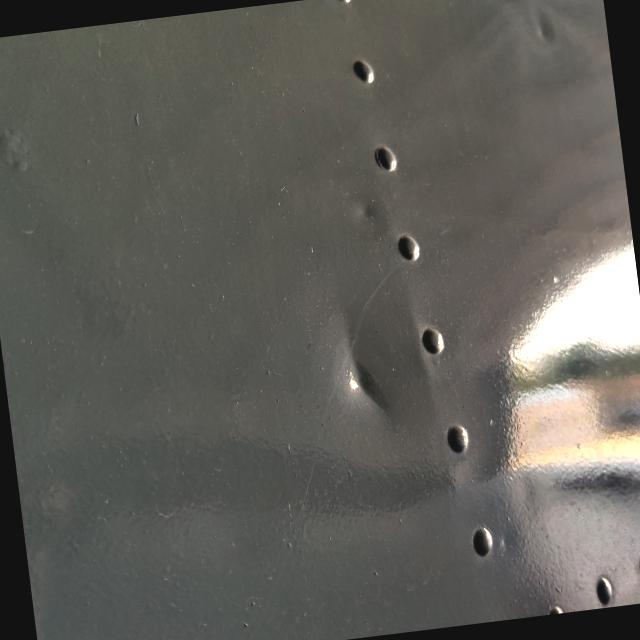dent: (300, 290, 424, 450)
